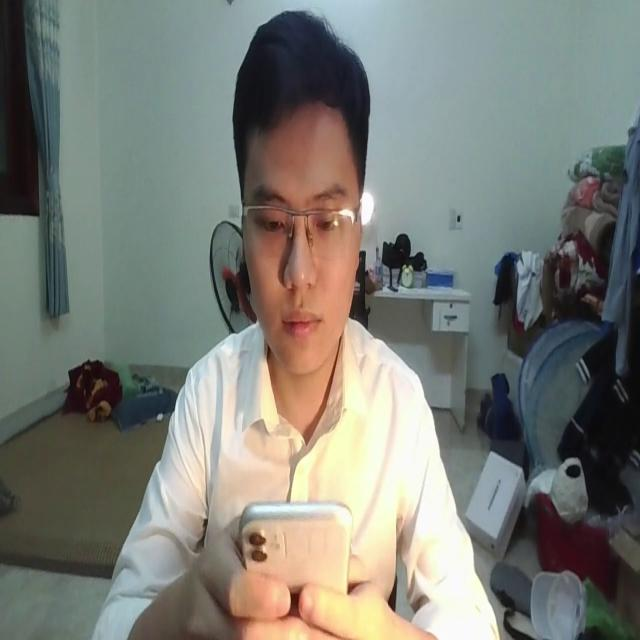phone: (240, 496, 353, 626)
student: (107, 0, 501, 640)
